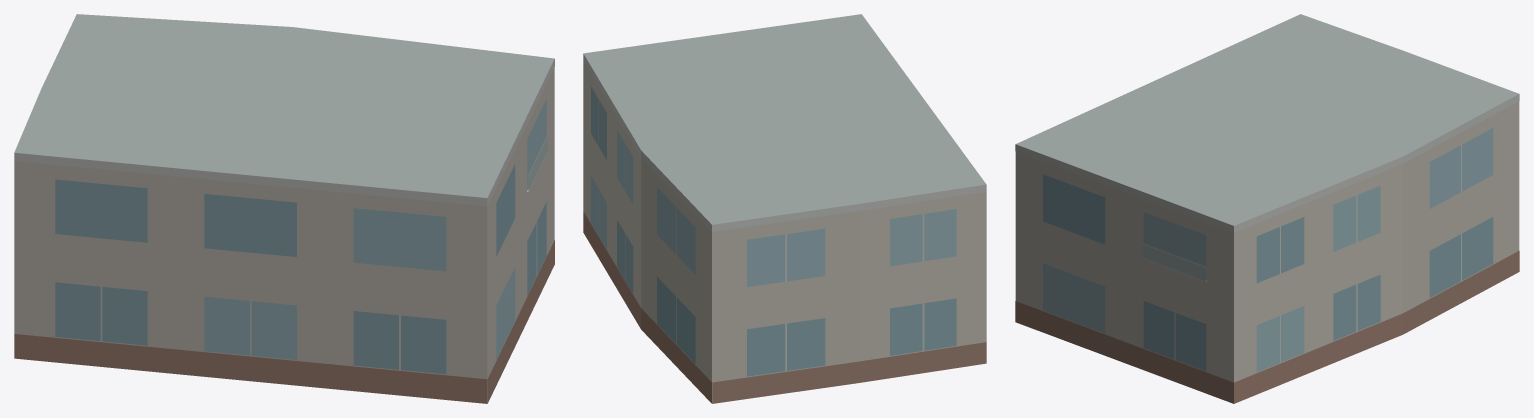
File: survey-upis-32527364.glb
3 renders of one model, left to right at view 1: azimuth 30°, elevation 25°; view 2: azimuth 150°, elevation 25°; view 3: azimuth 270°, elevation 25°, orthographic. The views are drawn at different scales.
Parts seen in each view (by area): view 1: survey-upis-32527364.tmp; view 2: survey-upis-32527364.tmp; view 3: survey-upis-32527364.tmp.
Part boxes in pixels (x1,y1,x2,y2): survey-upis-32527364.tmp: (14,14,554,403); survey-upis-32527364.tmp: (583,14,986,403); survey-upis-32527364.tmp: (1015,14,1519,403).
Bounding box in the file's own units: 15.58 × 6.1 × 15.66.
